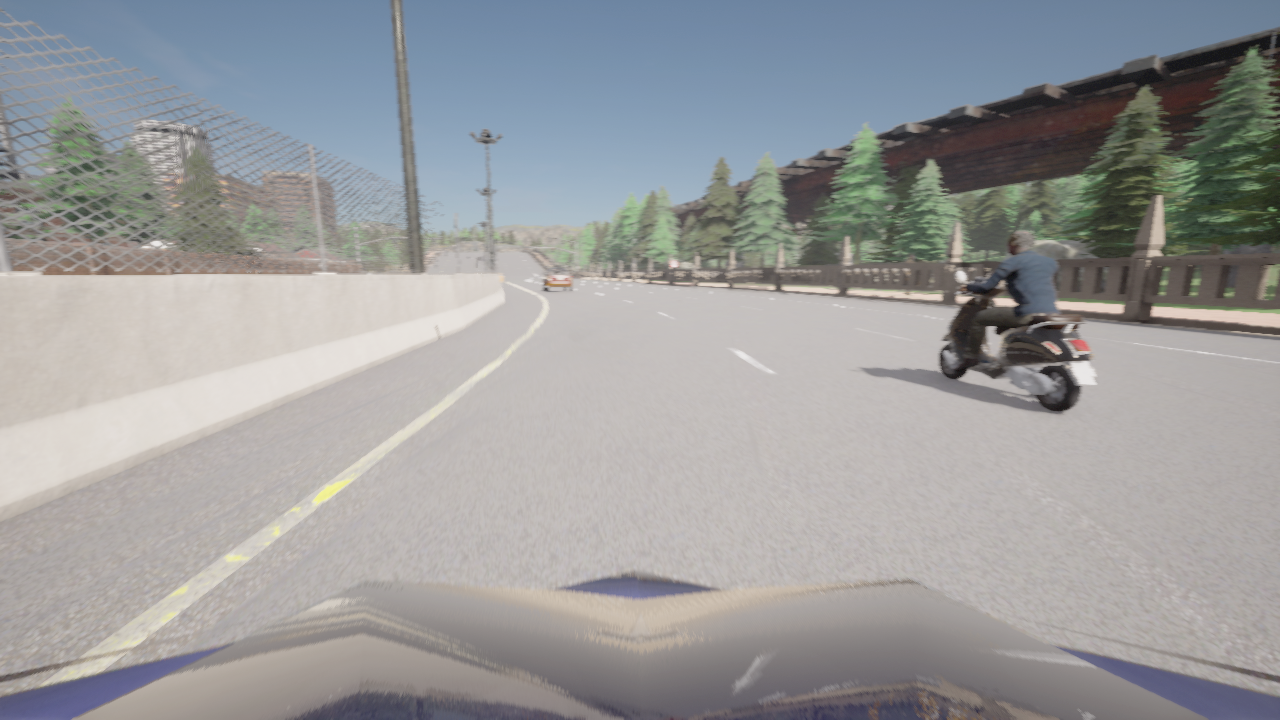cyclist: (0, 569, 1279, 719), (937, 271, 1095, 412), (542, 268, 572, 292)
pedestrian: (904, 254, 914, 295)
